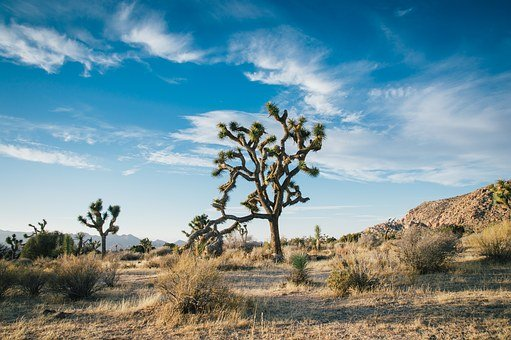field: (10, 223, 511, 336)
sky: (3, 3, 503, 217)
tree: (217, 106, 314, 264), (74, 182, 126, 261)
